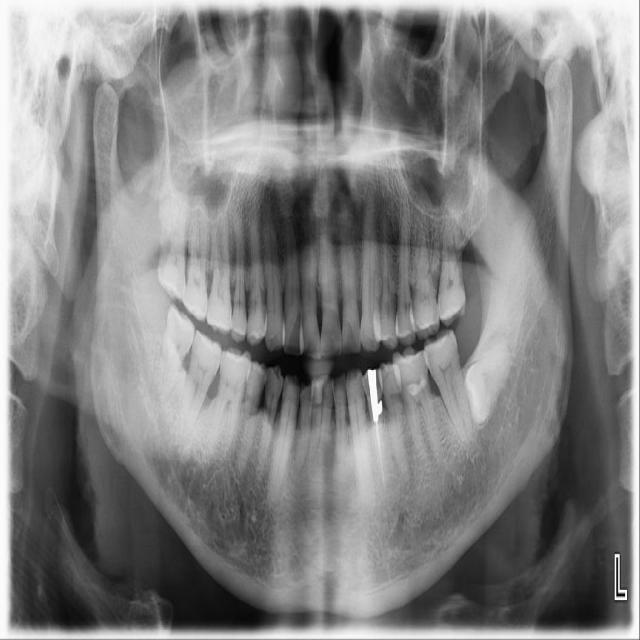3M ESPE Implant: (157, 192, 188, 302)
52: (393, 346, 428, 398), (363, 367, 383, 415)
73: (368, 402, 387, 488), (618, 611, 626, 620)
BioHorizons Implant: (436, 192, 471, 328)
Biomet 3i Implant: (447, 334, 522, 428)
Blue Sky Bio Implant: (419, 326, 478, 450)
Caries: (181, 194, 214, 323)
Implant: (174, 328, 227, 448)
Keystone Dental Implant: (151, 302, 201, 407)
